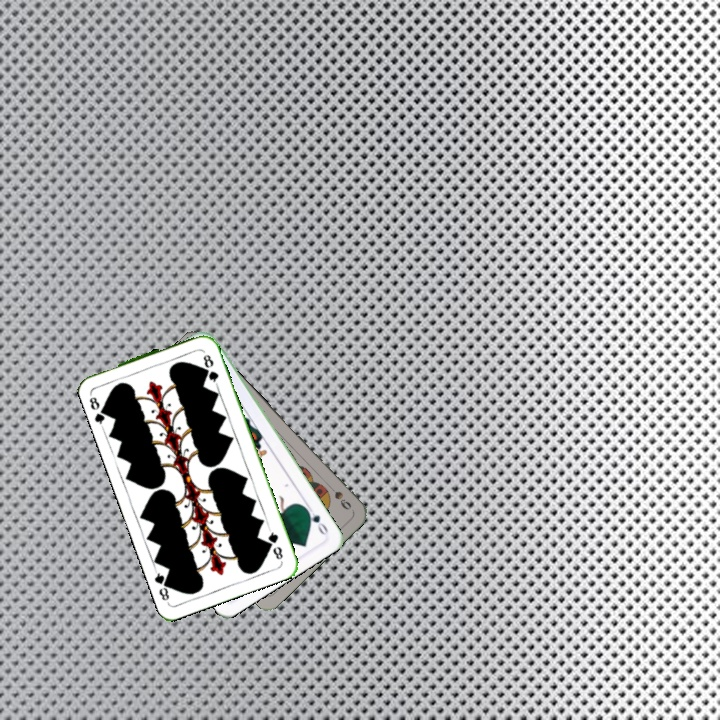G8: (85, 389, 111, 429), (264, 524, 285, 562)
GO: (301, 503, 331, 538)
S9: (323, 480, 354, 513)
